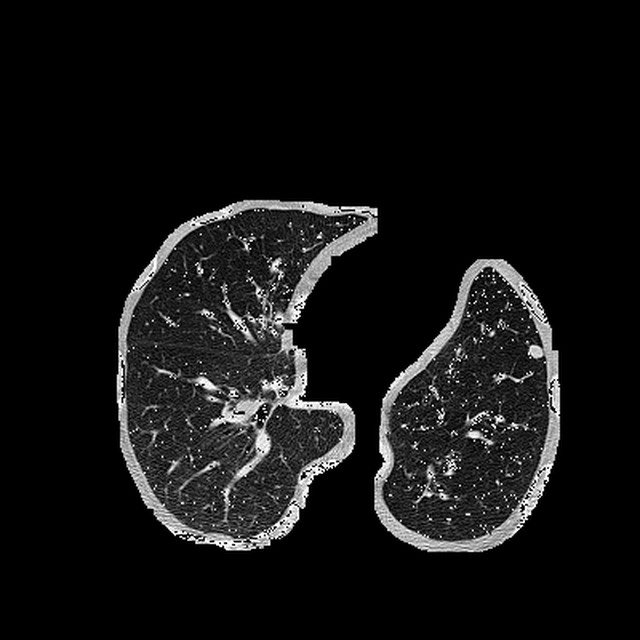PN: (528, 344, 541, 357)
